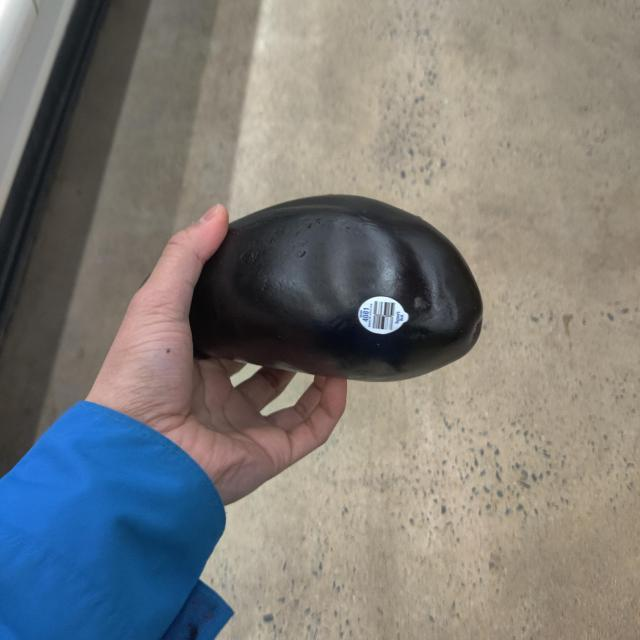Eggplant: (190, 194, 485, 378)
